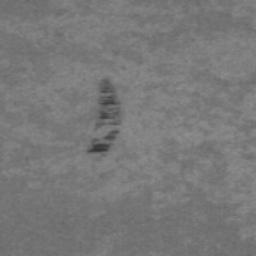Secondary rust skin: (87, 78, 121, 154)
